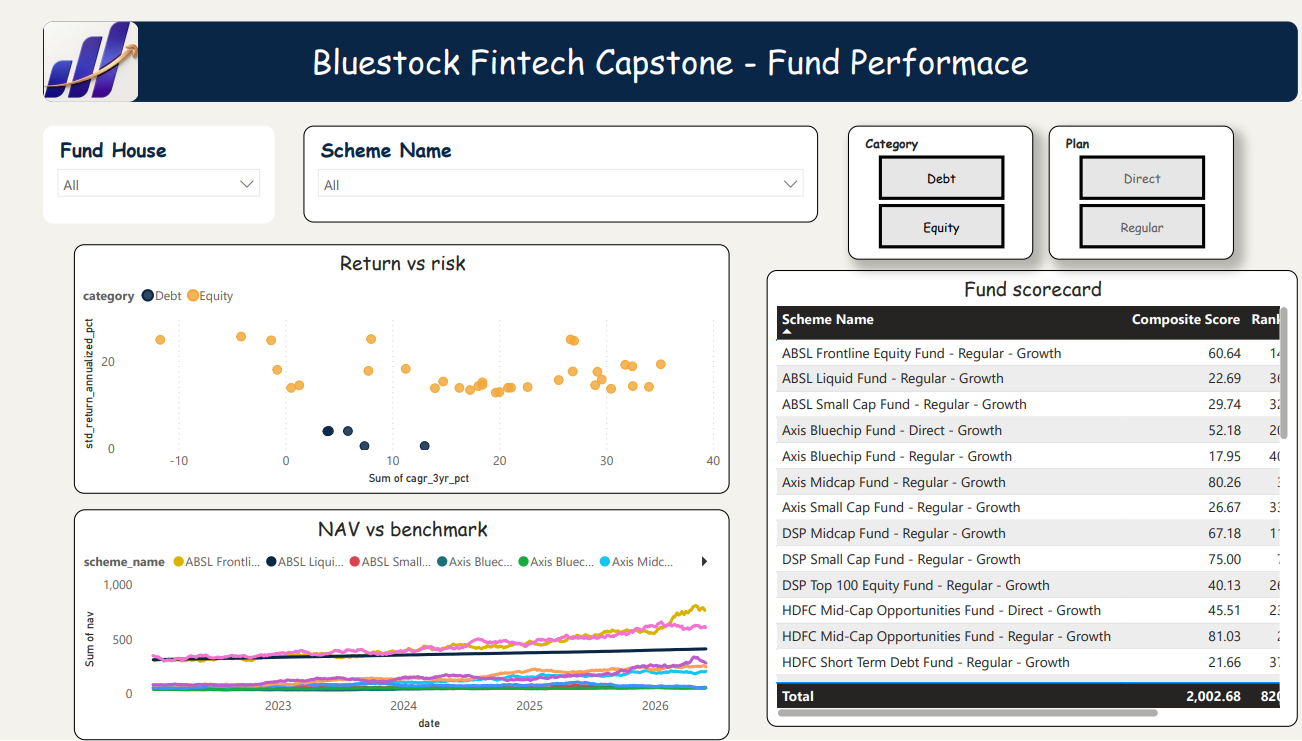

The page's visual inventory and layout, read from the dashboard file:
{"tool":"powerbi","page":{"name":"Fund Performance","canvas":[1280,720],"ordinal":1},"visuals":[{"type":"scatterChart","title":"Return vs risk","fields":{"X":["Sum(fund_scorecard.cagr_3yr_pct)"],"Series":["fund_master_clean.category"],"Y":["fund_risk.std_return_annualized_pct"]},"box":[74.3,238.6,637.1,242.9],"z":0},{"type":"tableEx","title":"Fund scorecard","fields":{"Values":["fund_master_clean.scheme_name","Sum(fund_scorecard.composite_score)","Sum(fund_scorecard.final_rank)","Sum(fund_scorecard.cagr_3yr_pct)","Sum(fund_scorecard.sharpe_ratio)"]},"box":[747.1,264.3,515.7,442.9],"z":1},{"type":"lineChart","title":"NAV vs benchmark","fields":{"Category":["nav_history_clean.date.Variation.Date Hierarchy.Year"],"Series":["fund_master_clean.scheme_name"],"Y":["Sum(nav_history_clean.nav)"]},"box":[74.3,495.7,637.1,224.3],"z":2},{"type":"slicer","fields":{"Values":["fund_master_clean.scheme_name"]},"box":[297.1,124.3,500,94],"z":3},{"type":"slicer","fields":{"Values":["fund_master_clean.fund_house"]},"box":[44.3,124.3,224.3,94.3],"z":4},{"type":"slicer","fields":{"Values":["fund_master_clean.category"]},"box":[825.7,124.3,180,130],"z":5},{"type":"slicer","fields":{"Values":["fund_master_clean.plan"]},"box":[1021.4,124.3,180,130],"z":6},{"type":"textbox","box":[44.3,22.9,1218.6,78.6],"z":7},{"type":"image","box":[44.3,22.9,92.9,78.6],"z":8}]}

Visuals, with their boxes in screenshot pixels (x1, y1, x2, y2), scaled from the page's 1280x720 canvas onto the 1302x741 screenshot:
"Return vs risk" scatterChart: select_region(76, 246, 724, 496)
"Fund scorecard" tableEx: select_region(760, 272, 1285, 728)
"NAV vs benchmark" lineChart: select_region(76, 510, 724, 740)
slicer - fund_master_clean.scheme_name: select_region(302, 128, 811, 225)
slicer - fund_master_clean.fund_house: select_region(45, 128, 273, 225)
slicer - fund_master_clean.category: select_region(840, 128, 1023, 262)
slicer - fund_master_clean.plan: select_region(1039, 128, 1222, 262)
textbox: select_region(45, 24, 1285, 104)
image: select_region(45, 24, 140, 104)
